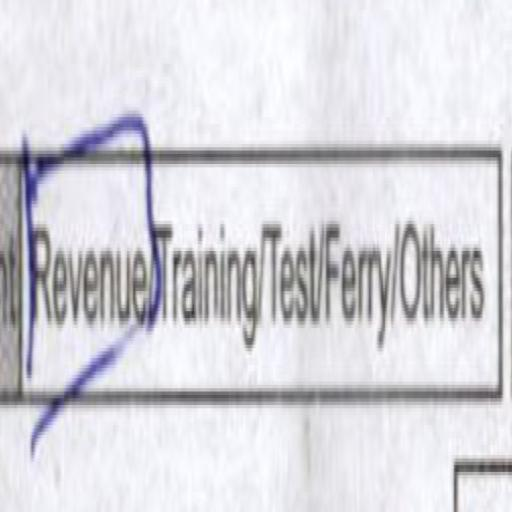check: (23, 77, 154, 485)
